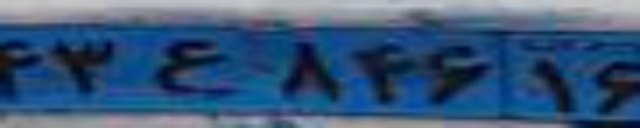1: (529, 57, 576, 113)
3: (49, 39, 121, 98)
4: (352, 41, 413, 104), (0, 39, 43, 97)
6: (424, 43, 494, 105), (591, 59, 638, 114)
8: (276, 42, 343, 100)
ain: (146, 38, 241, 97)
